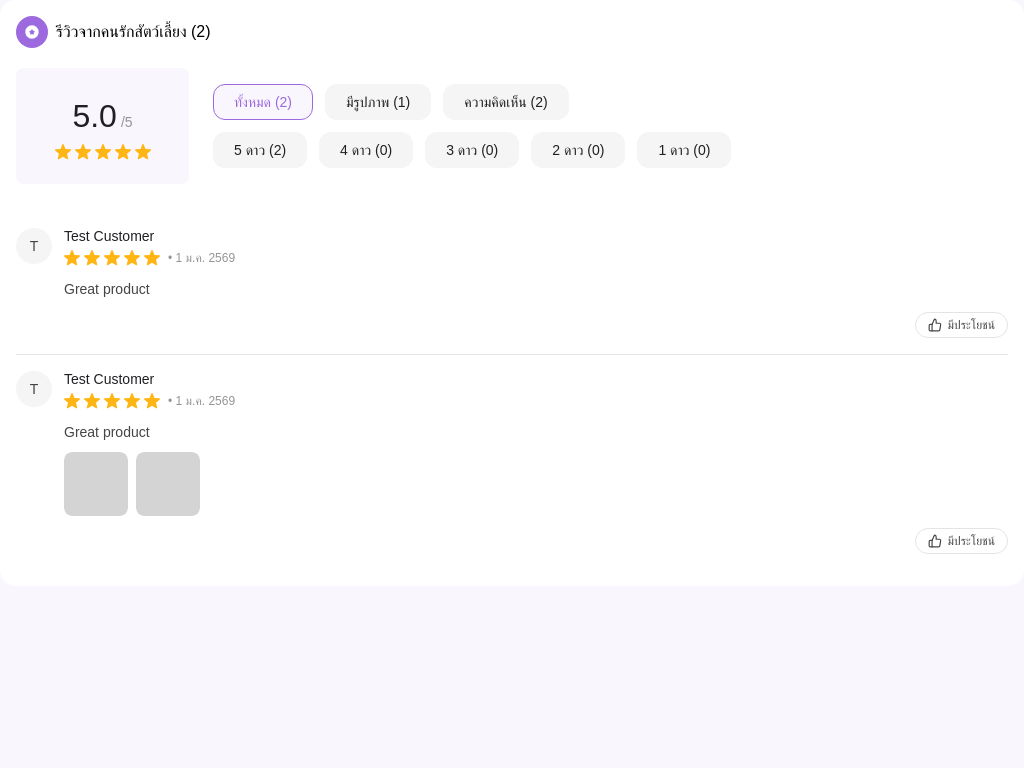
ProductDetailsSellerReviews › filters reviews with images only
The width and height of the screenshot is (1024, 768).
Click the button "มีรูปภาพ (1)" at [378, 102], box left=325, top=84, right=431, bottom=120
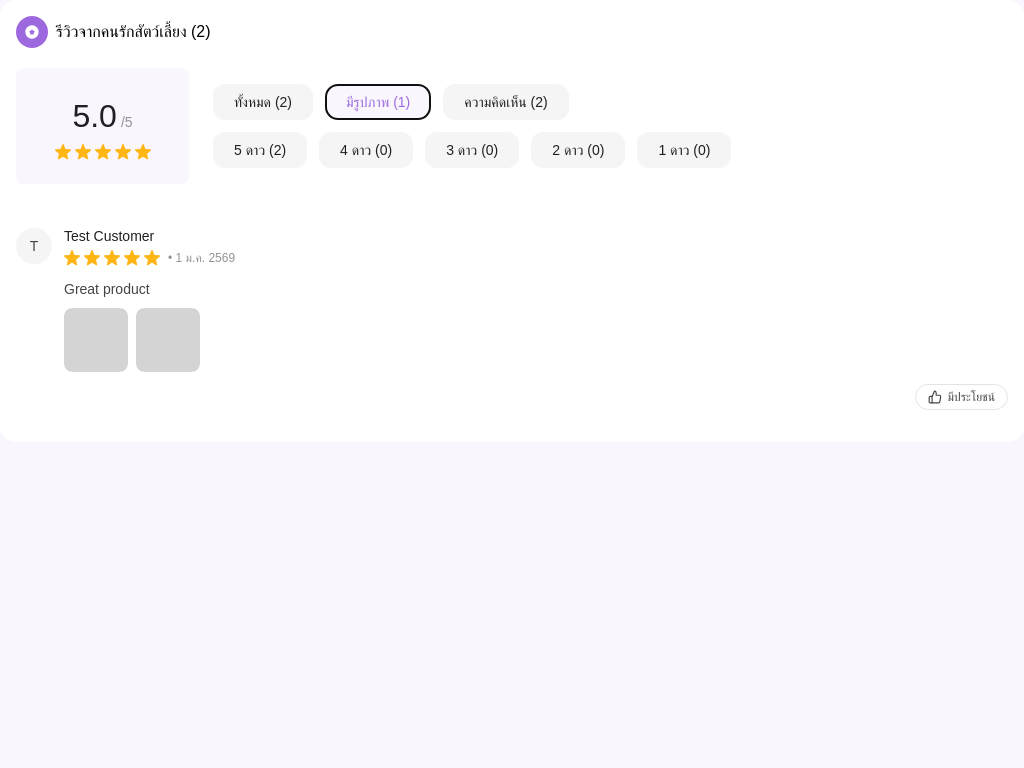
Result: the element with test id "product-review-item-review-no-images" is gone
